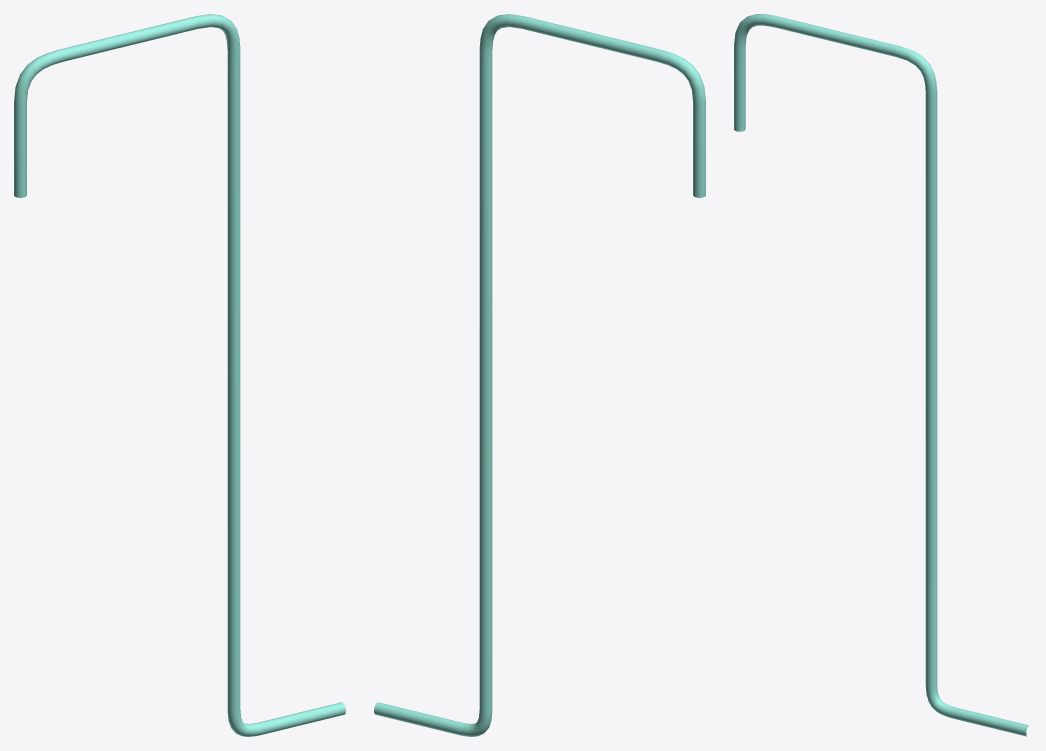
Rendered from connection_1_2.glb.
3 views of the same model, side by side, from view 1: azimuth 30°, elevation 25°; view 2: azimuth 150°, elevation 25°; view 3: azimuth 330°, elevation 25° (orthographic). The views are drawn at different scales.
Parts seen in each view (by area): view 1: connection_1_2; view 2: connection_1_2; view 3: connection_1_2.
Boxes of the visible parts, bbox=[...] form: connection_1_2: bbox=[14, 14, 345, 736]; connection_1_2: bbox=[374, 14, 705, 736]; connection_1_2: bbox=[734, 14, 1029, 736].
Bounding box in the file's own units: 73.79 × 158 × 2.5.
